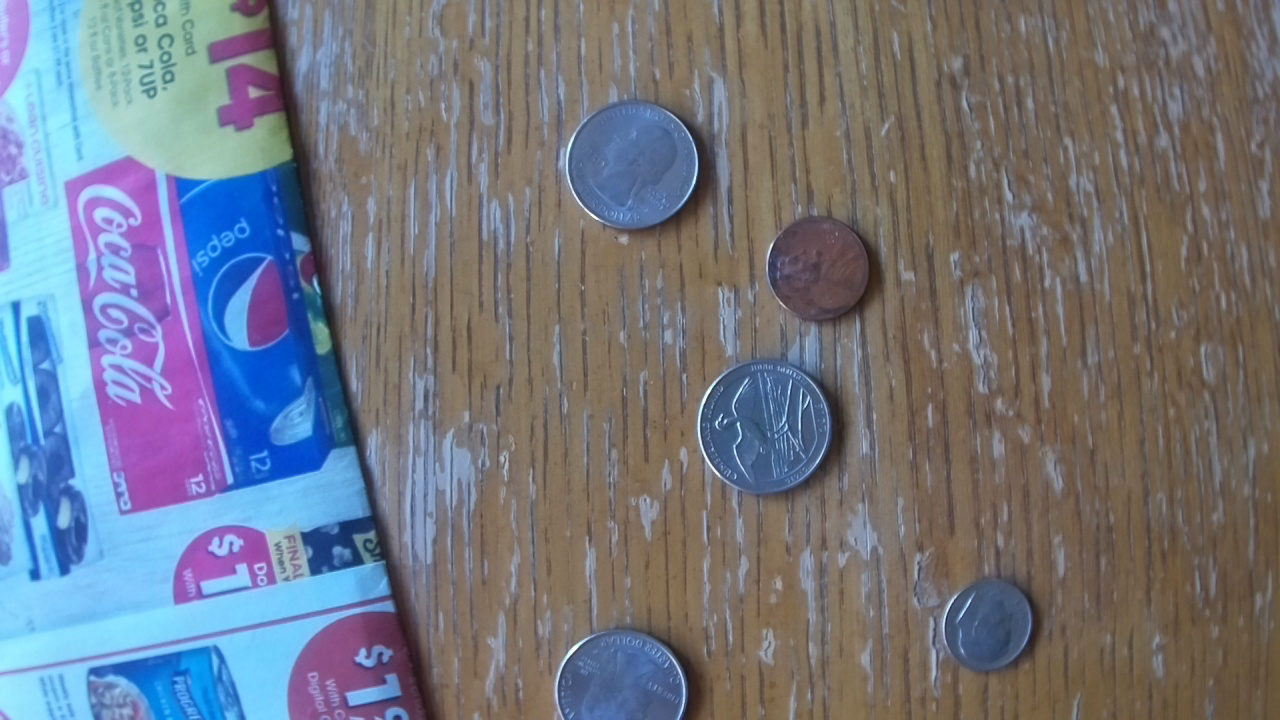dime: (942, 578, 1034, 671)
penny: (765, 214, 873, 322)
quarter: (563, 98, 701, 233), (697, 359, 832, 494), (554, 627, 690, 720)
